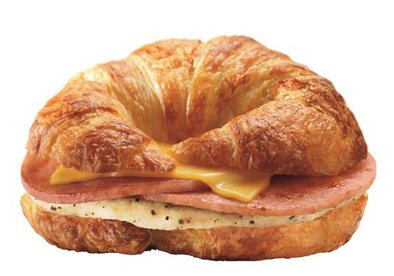soup: (21, 36, 376, 264)
